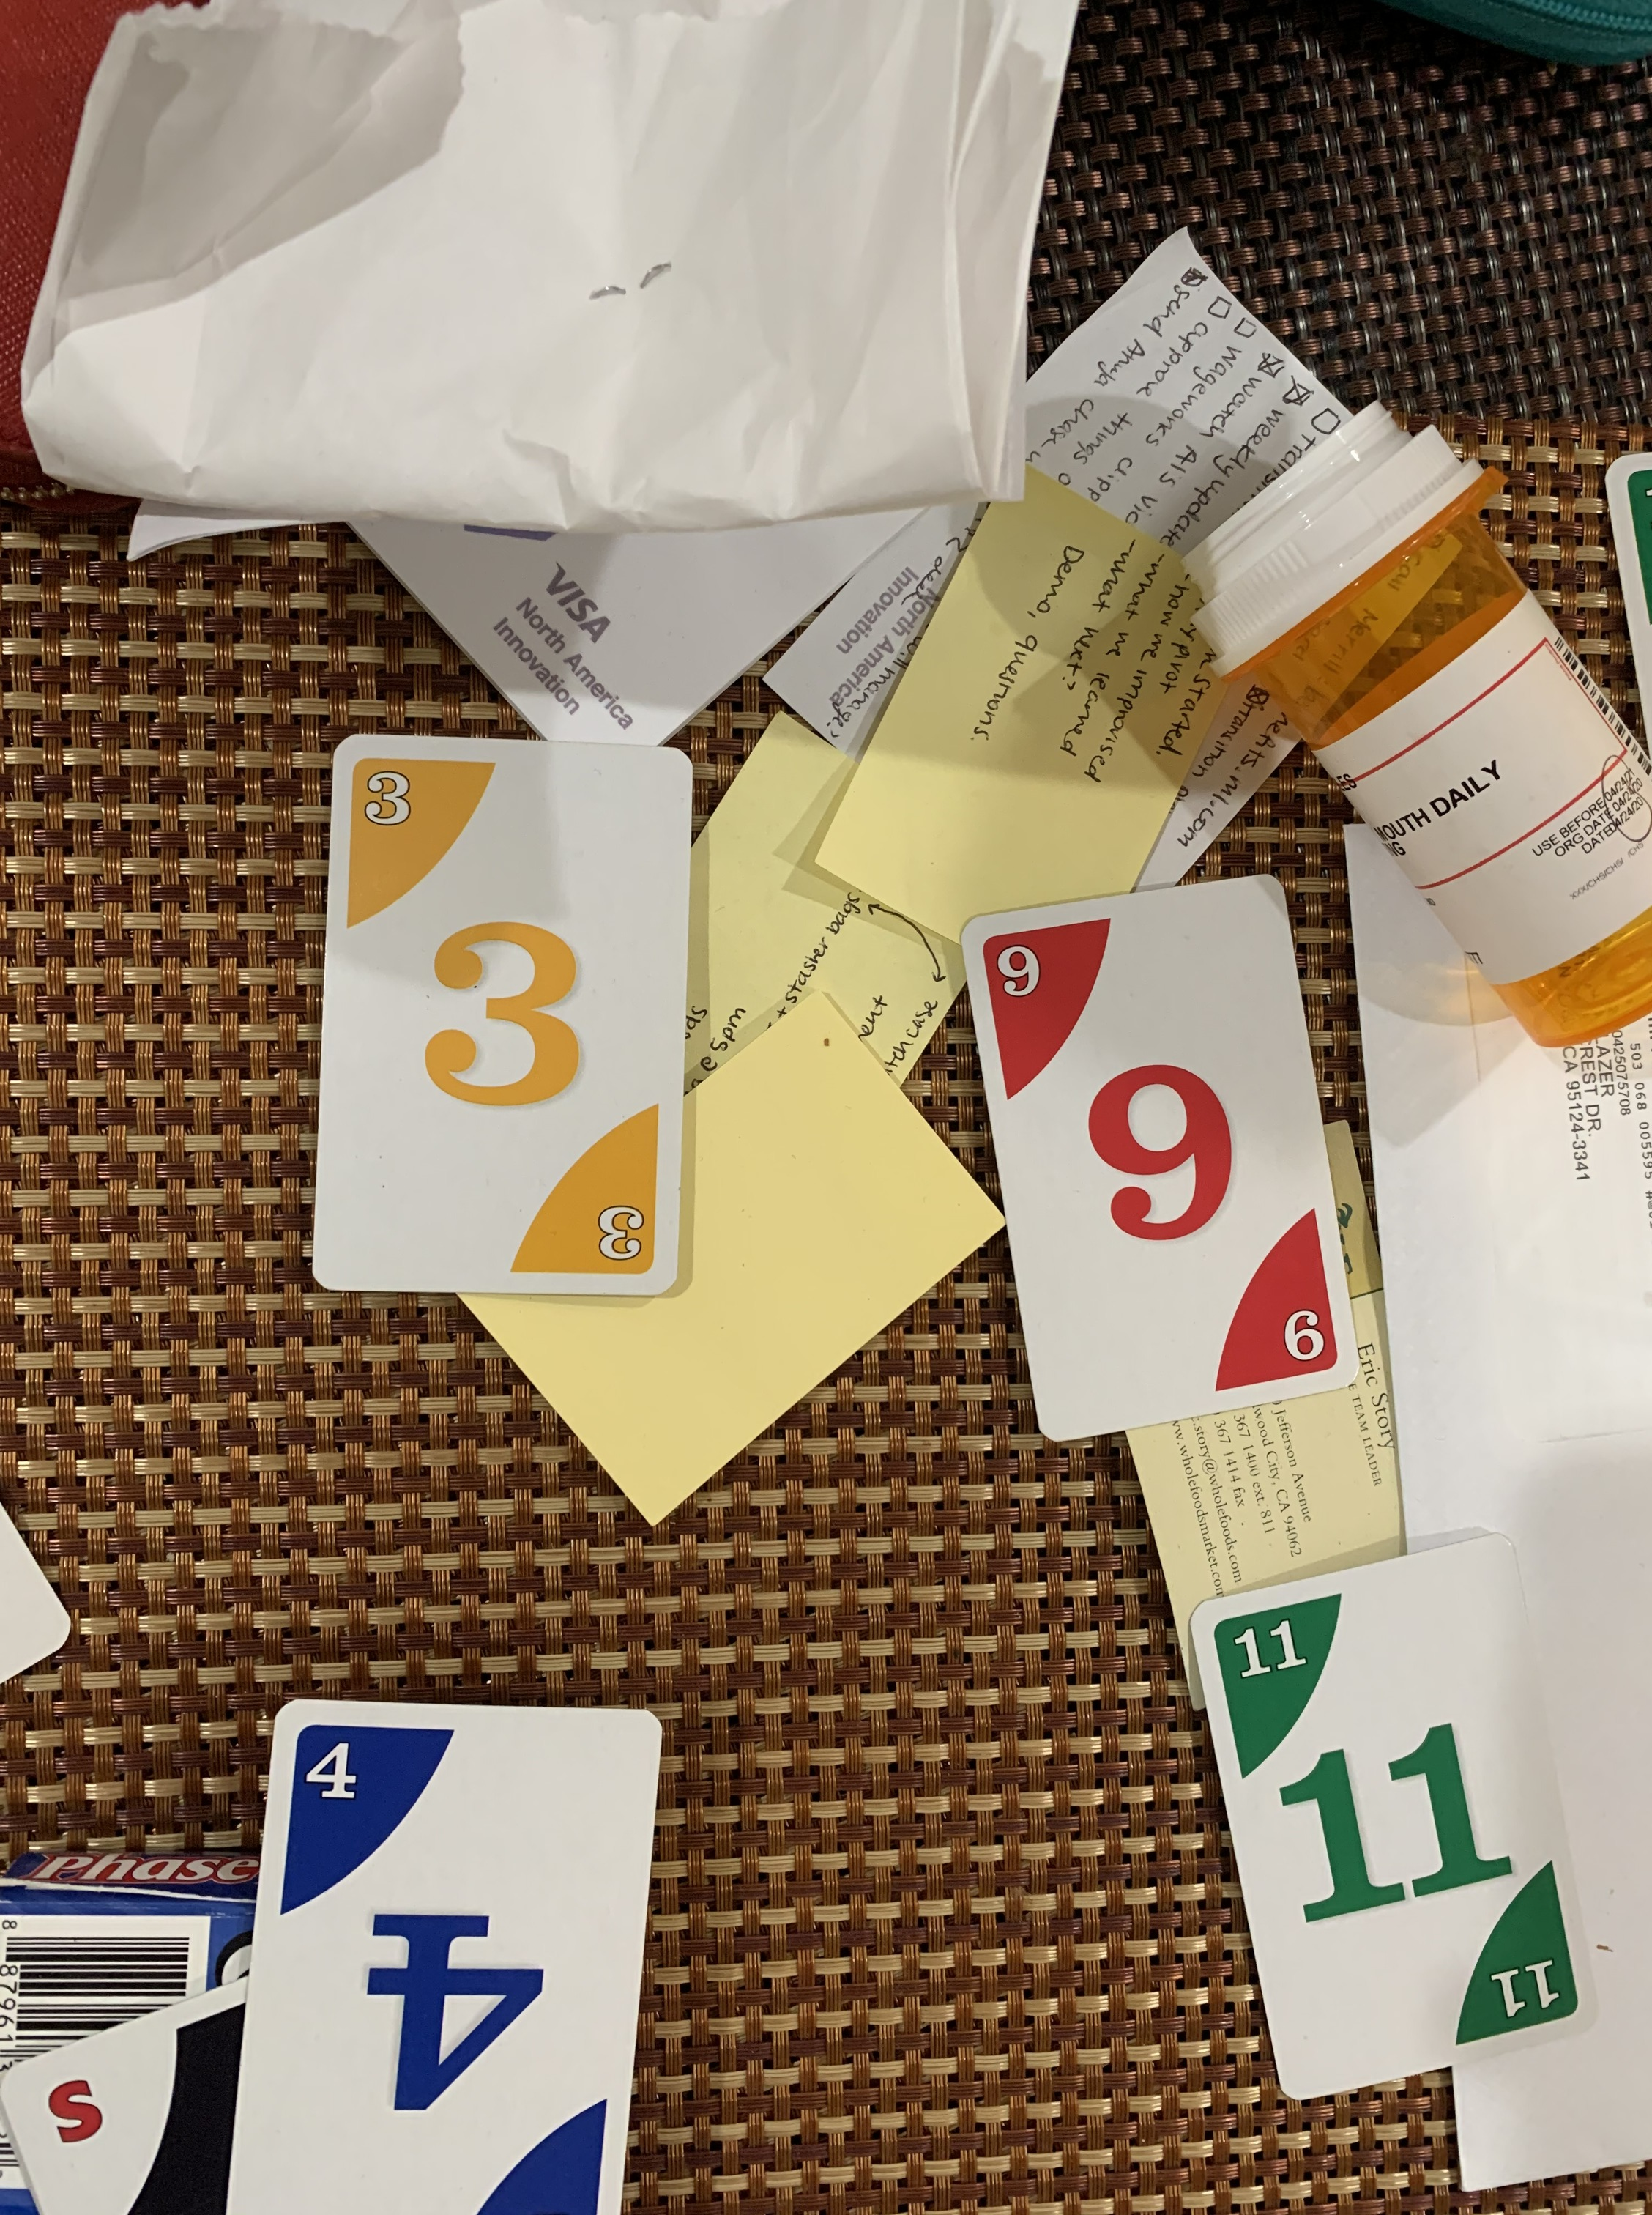eleven: (1164, 1524, 1610, 2130)
four: (212, 1689, 715, 2215)
nine: (960, 854, 1367, 1467)
three: (286, 719, 715, 1316)
